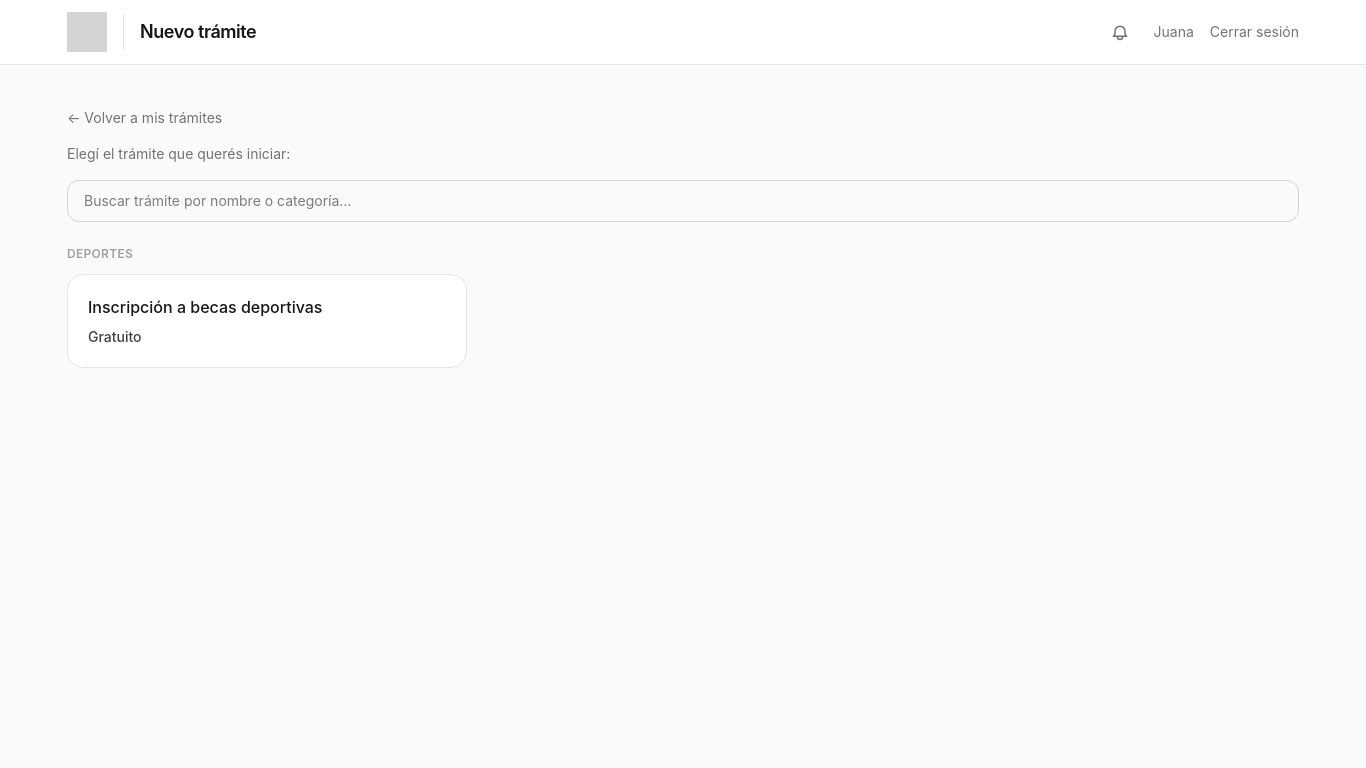
it: NuevoTramite › al elegir un tipo, renderiza los campos de su esquema
The image size is (1366, 768).
Click the text "Inscripción a becas deportivas" at (205, 307), box left=88, top=297, right=322, bottom=317
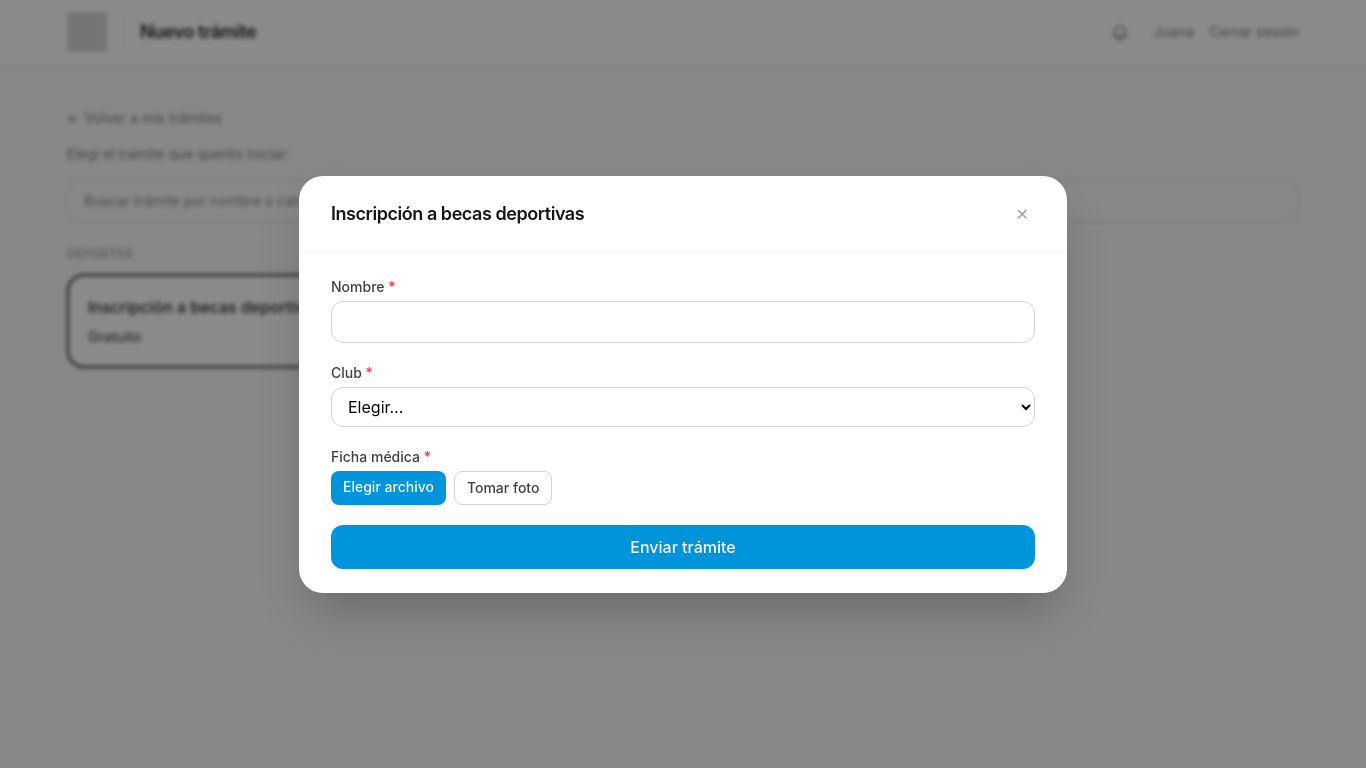
Expected: the field labelled "Nombre *" is shown, left=331, top=300, right=1035, bottom=342
Expected: the dropdown labelled "Club *" is shown, left=331, top=386, right=1035, bottom=426
Expected: the file field labelled "Ficha médica *" is shown, left=331, top=448, right=431, bottom=464
